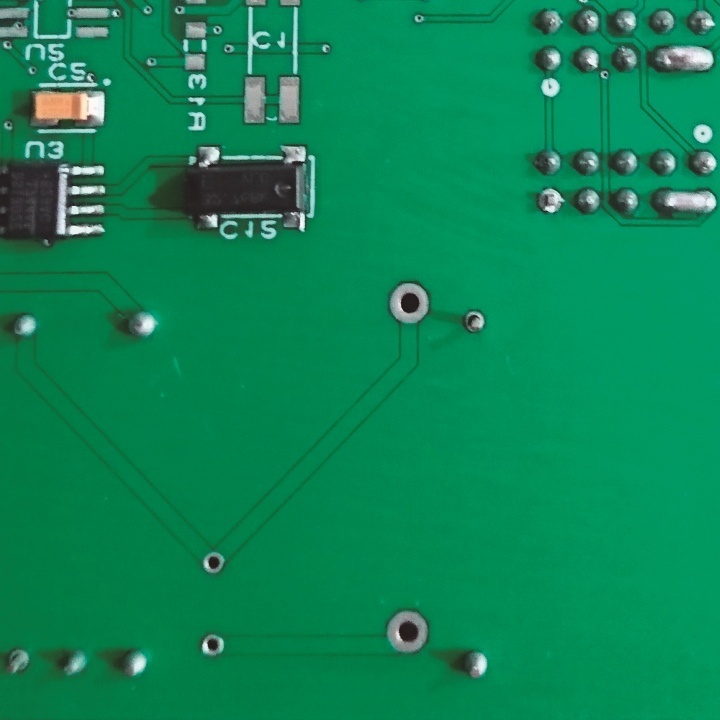F: (384, 606, 431, 656), (384, 280, 430, 326), (5, 642, 34, 678), (536, 185, 561, 219), (199, 630, 226, 658), (460, 308, 488, 332), (203, 549, 226, 578)
P: (646, 41, 717, 75), (652, 183, 716, 220)
